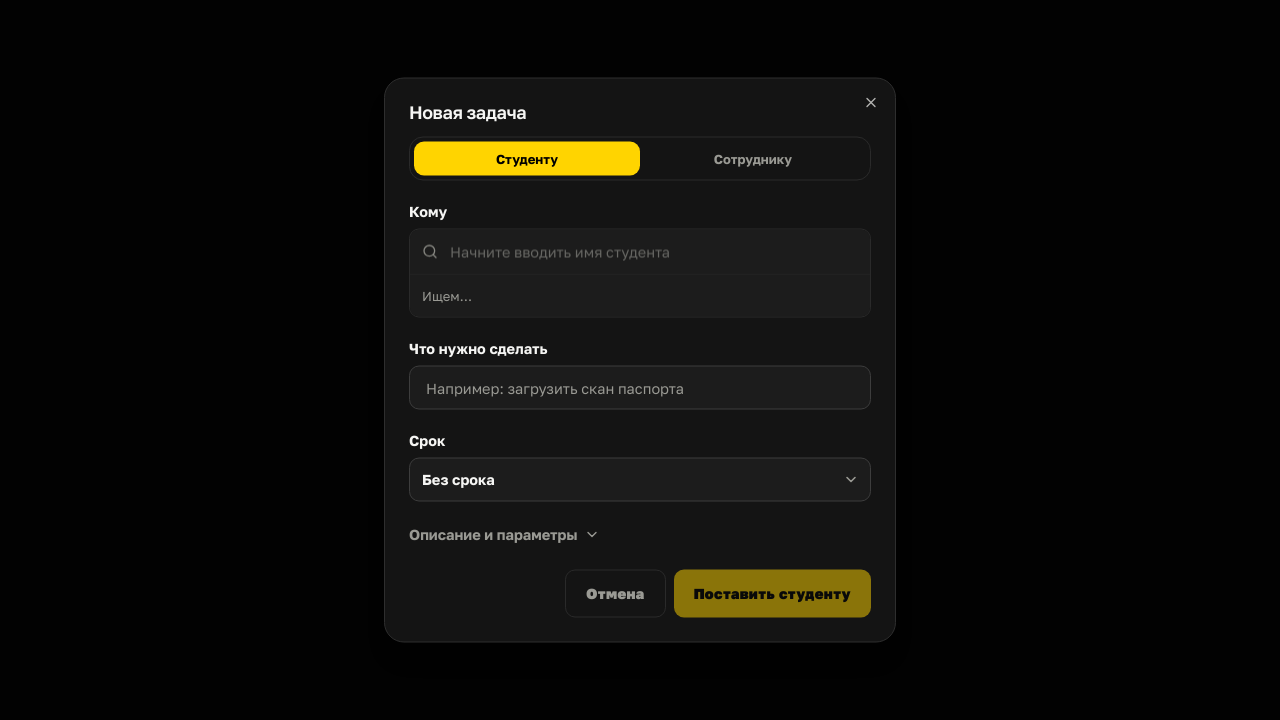
задача студенту › без активного roadmap позволяет поставить задачу ученику
Type "Алим" into the field named "Поиск студента по имени" at (640,252), box [410,230,870,274]
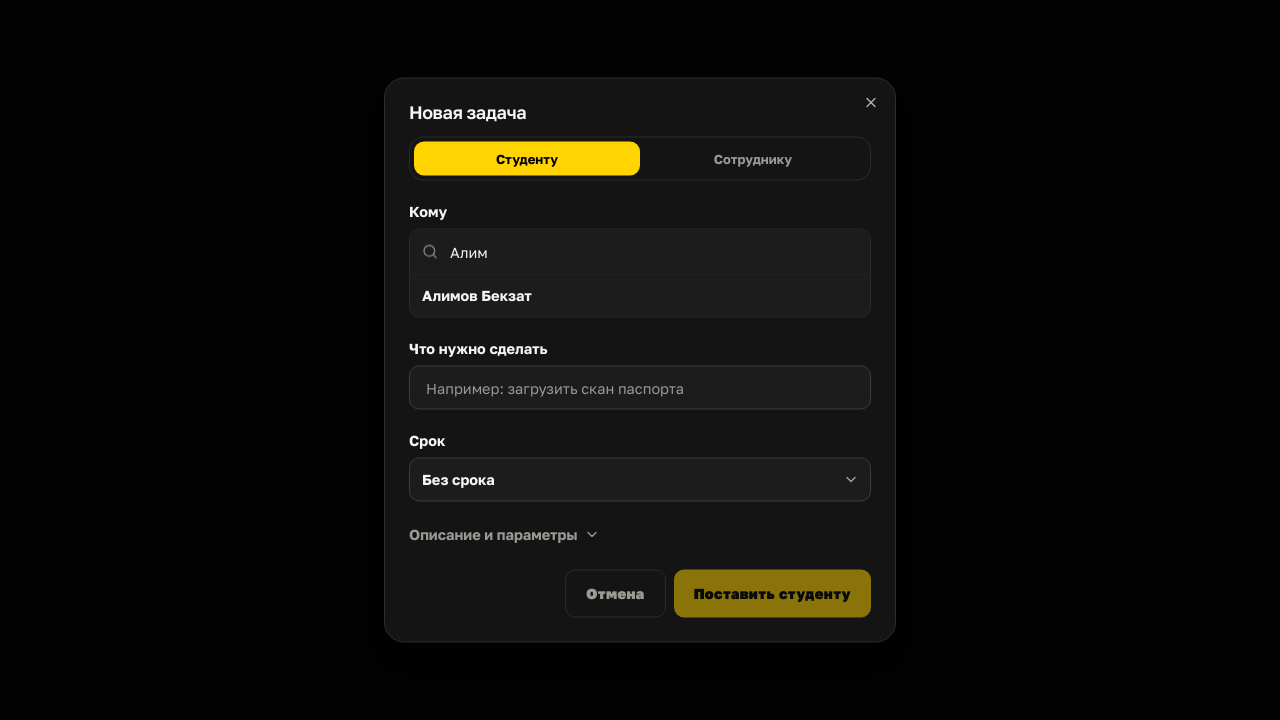
Click the option "Алимов Бекзат" at (477,295), box [410,274,870,316]
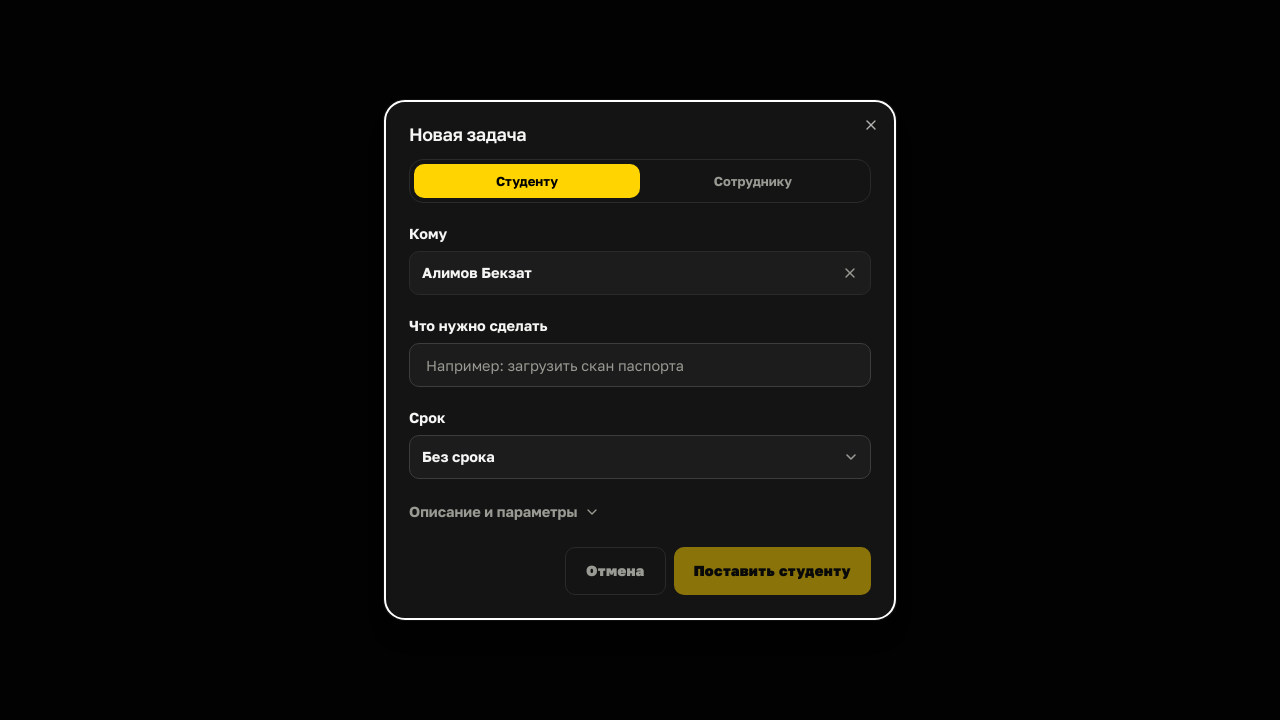
Type "Что-то" into the field named "Что нужно сделать" at (640,365), box [409,343,871,387]
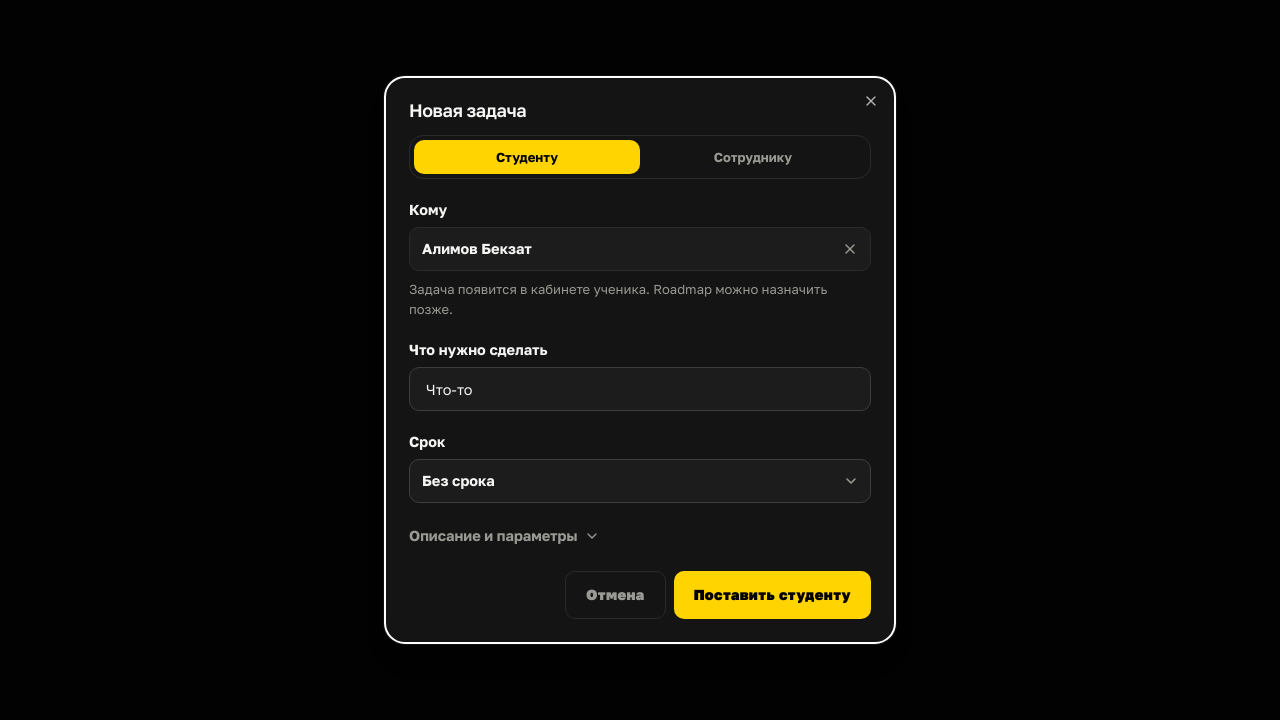
Expected: the text "Roadmap можно назначить позже" is shown, [409,281,827,317]
Expected: the button "Поставить студенту" is enabled, [674,571,871,619]
